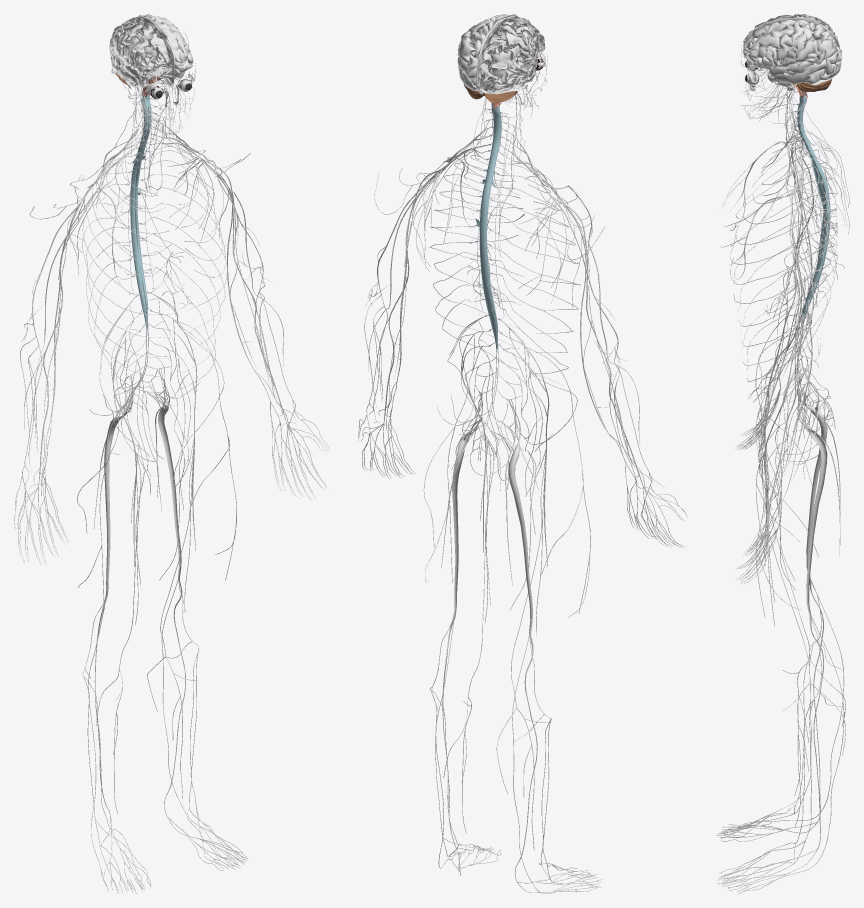
File: body-nervous.glb
3 renders of one model, left to right at view 1: azimuth 30°, elevation 25°; view 2: azimuth 150°, elevation 25°; view 3: azimuth 270°, elevation 25°, orthographic. The views are drawn at different scales.
Visible parts, largest first — view 1: z02389, z02656, z02388, z02649, z02648; view 2: z02656, z02388, z02389, z02649, z02648, z02647; view 3: z02656, z02388, z02389, z02648, z02649, z02481, z02646, z02416, z02471, z02647, z02483, z02756 (+18 smaller).
Part boxes in pixels (x1,y1,x2,y2): z02389: [82, 148, 173, 392]; z02656: [130, 95, 151, 335]; z02388: [140, 143, 227, 389]; z02649: [104, 376, 132, 595]; z02648: [146, 369, 181, 576]; z02656: [475, 103, 501, 351]; z02388: [429, 155, 524, 369]; z02389: [491, 163, 580, 374]; z02649: [495, 400, 532, 632]; z02648: [452, 393, 481, 613]; z02647: [496, 452, 545, 849]; z02656: [797, 95, 830, 330]; z02388: [730, 153, 837, 382]; z02389: [730, 140, 837, 370]; z02648: [797, 384, 827, 611]; z02649: [797, 370, 827, 577]; z02481: [745, 29, 793, 62]; z02646: [761, 453, 845, 827]; z02416: [755, 340, 818, 616]; z02471: [769, 198, 802, 508]; z02647: [761, 423, 845, 795]; z02483: [773, 59, 827, 83]; z02756: [764, 85, 812, 320].
Bounding box in the file's own units: 0.6885 × 1.75 × 0.2503.
